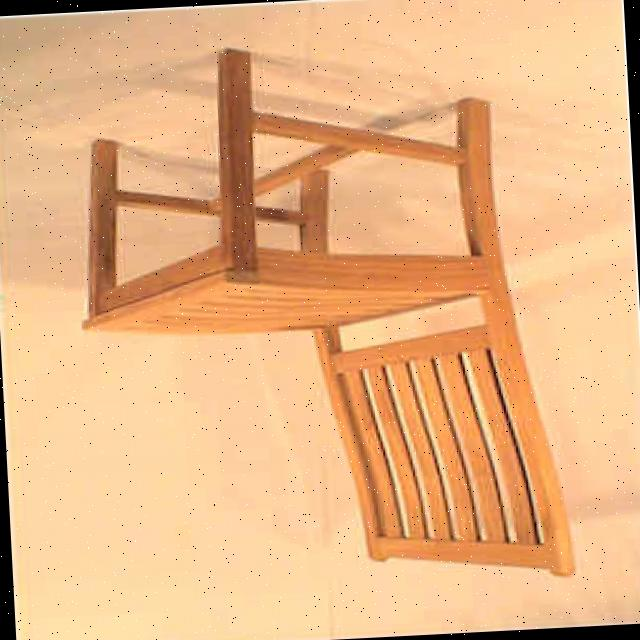Chair: (32, 11, 600, 616)
